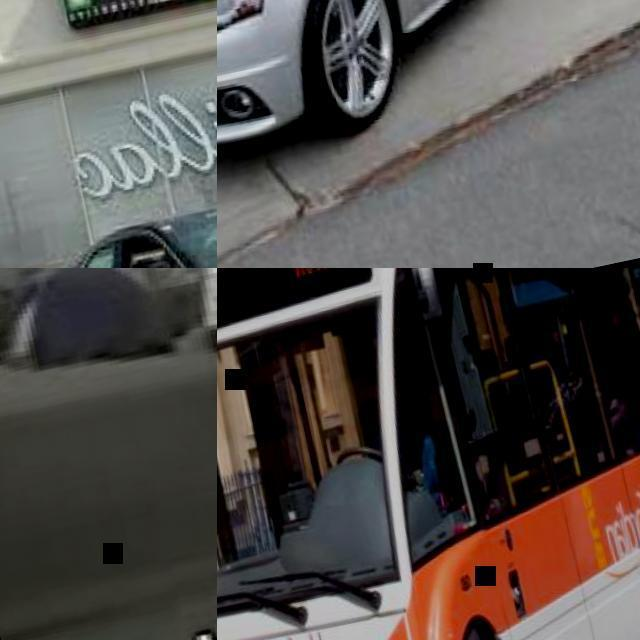car: (220, 0, 394, 159)
